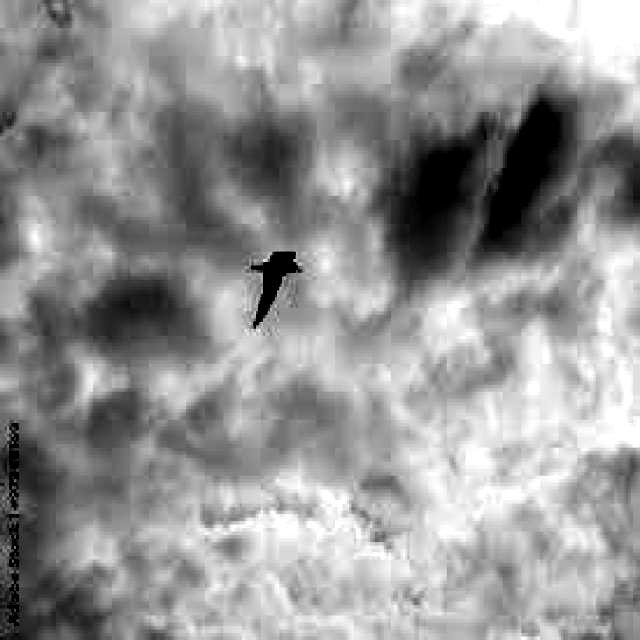bird: (244, 236, 300, 327)
